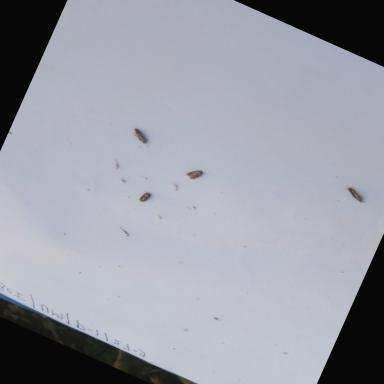pbw: (124, 180, 164, 214), (177, 158, 213, 190), (334, 180, 370, 210), (126, 126, 156, 150)
